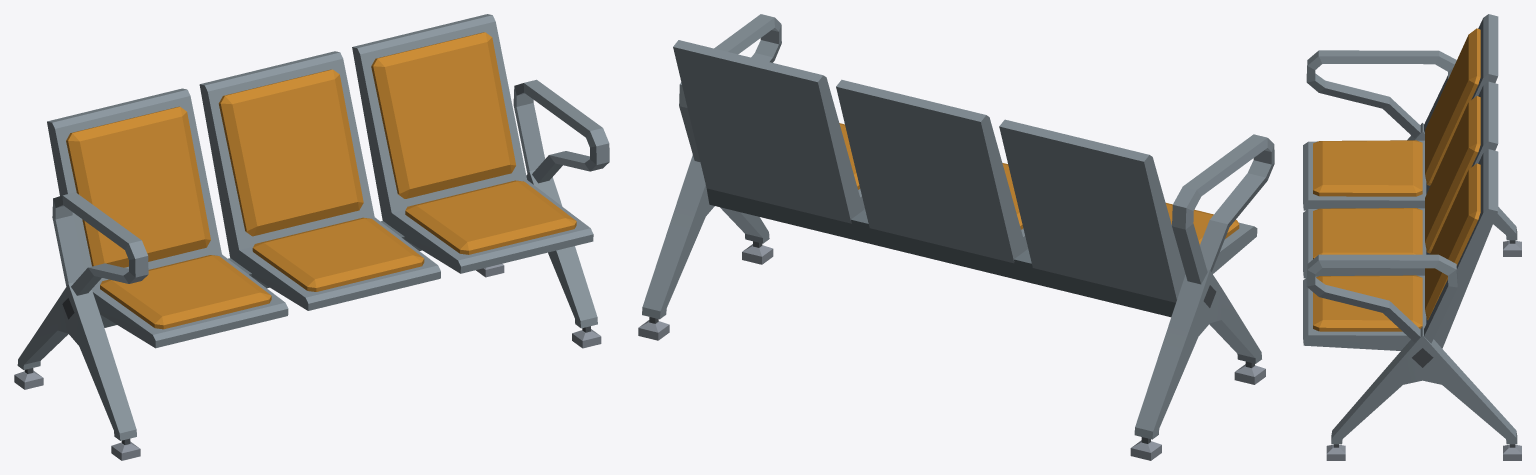
The model's file is SM_Prop_Bench_09.obj.
The picture shows the model from 3 angles, left to right: view 1: azimuth 30°, elevation 25°; view 2: azimuth 150°, elevation 25°; view 3: azimuth 270°, elevation 25°; orthographic projection. The views are drawn at different scales.
Parts seen in each view (by area): view 1: SM_Prop_Bench_09_0; view 2: SM_Prop_Bench_09_0; view 3: SM_Prop_Bench_09_0.
Boxes of the visible parts, box(x1,y1,x2,y2) form: SM_Prop_Bench_09_0: box(14, 14, 609, 460); SM_Prop_Bench_09_0: box(638, 14, 1274, 460); SM_Prop_Bench_09_0: box(1303, 14, 1521, 460).
Size of the model in its own units: 1.76 by 0.9385 by 0.7648.
Materials: 1 (1 with a texture image).
